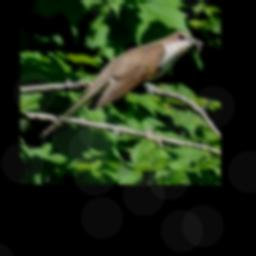Cuckoo: (38, 29, 202, 141)
